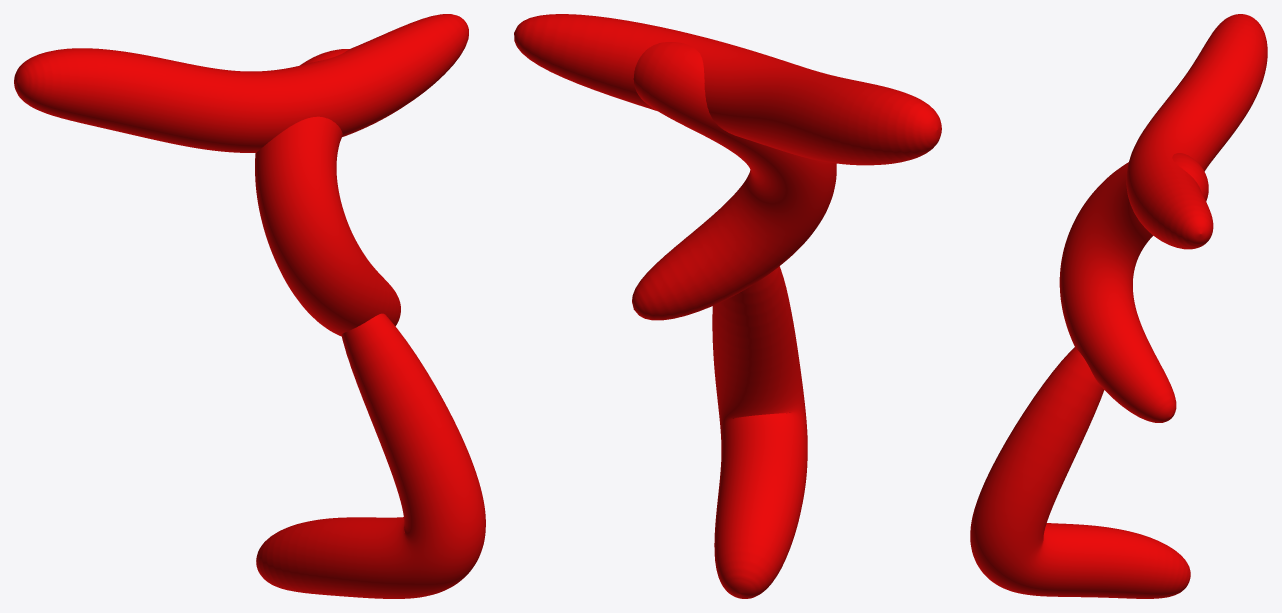
File: Figure_266.fbx
The picture shows the model from 3 angles, left to right: view 1: azimuth 30°, elevation 25°; view 2: azimuth 150°, elevation 25°; view 3: azimuth 270°, elevation 25°; orthographic projection. The views are drawn at different scales.
Visible parts, largest first — view 1: Figure_266; view 2: Figure_266; view 3: Figure_266.
Part boxes in pixels (x1=…): Figure_266: x1=14, y1=14, x2=485, y2=598; Figure_266: x1=514, y1=14, x2=941, y2=598; Figure_266: x1=970, y1=14, x2=1267, y2=598.
Bounding box in the file's own units: 74.91 × 92.33 × 50.53.
